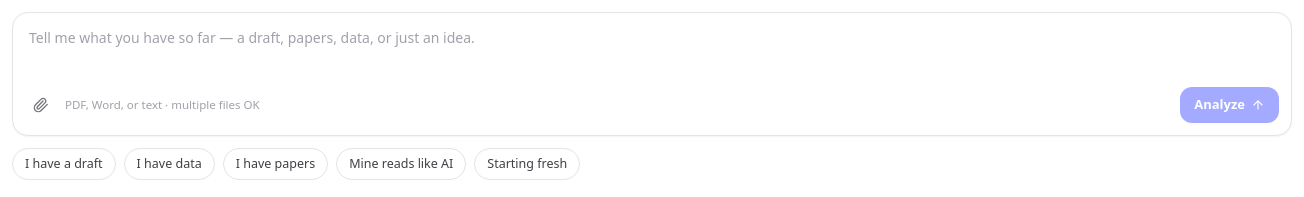
it: ThesisComposer › Analyze is disabled until there is text or a file
The image size is (1304, 197).
Expected: the button "Analyze" is disabled, x1=1180 y1=87 x2=1279 y2=122
Replace the text in the text box with "I have a topic" at x=652, y=45, box x1=13 y1=13 x2=1291 y2=77
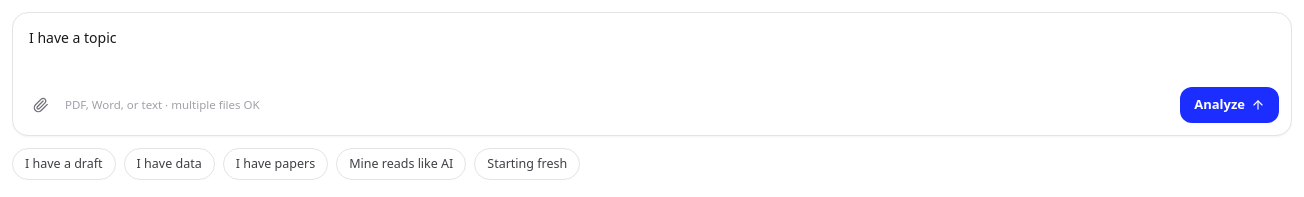
Expected: the button "Analyze" is enabled, x1=1180 y1=87 x2=1279 y2=122
